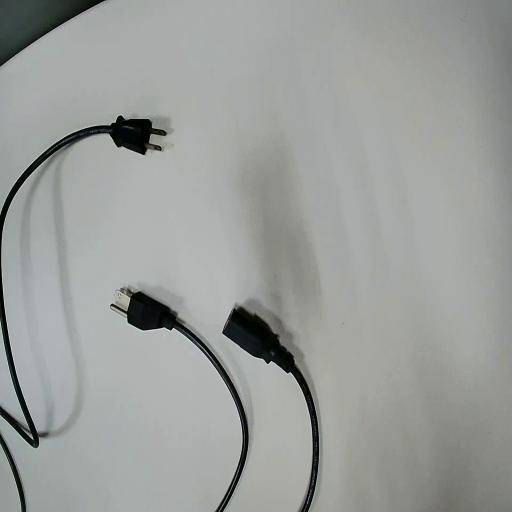wire: (126, 292, 247, 511), (0, 117, 165, 237), (224, 308, 317, 511)
